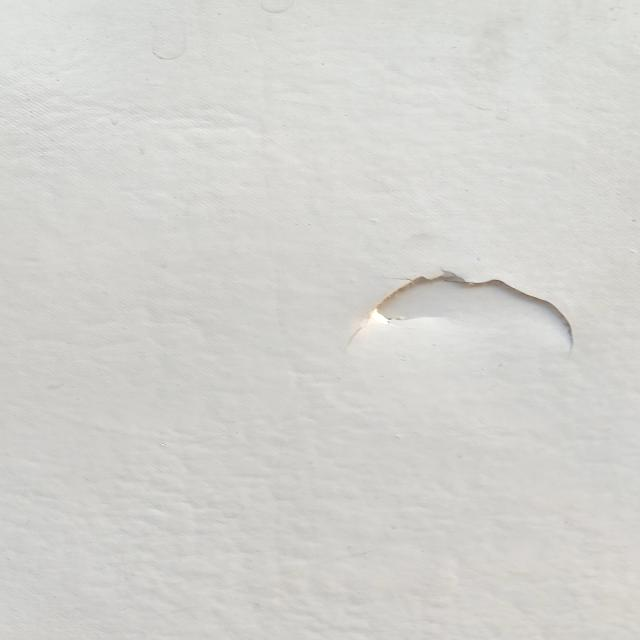Scratches: (345, 256, 583, 373)
